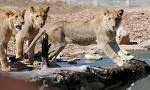lion: (48, 11, 129, 75), (14, 2, 45, 67), (1, 7, 25, 77)
